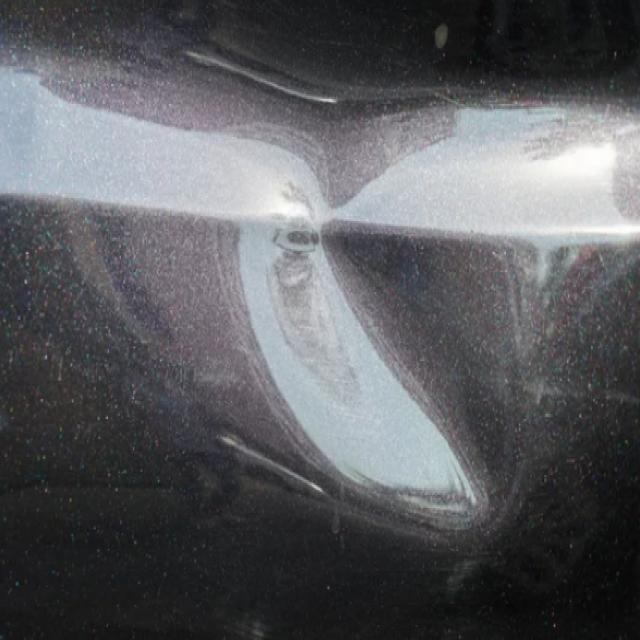dents: (209, 168, 522, 559)
